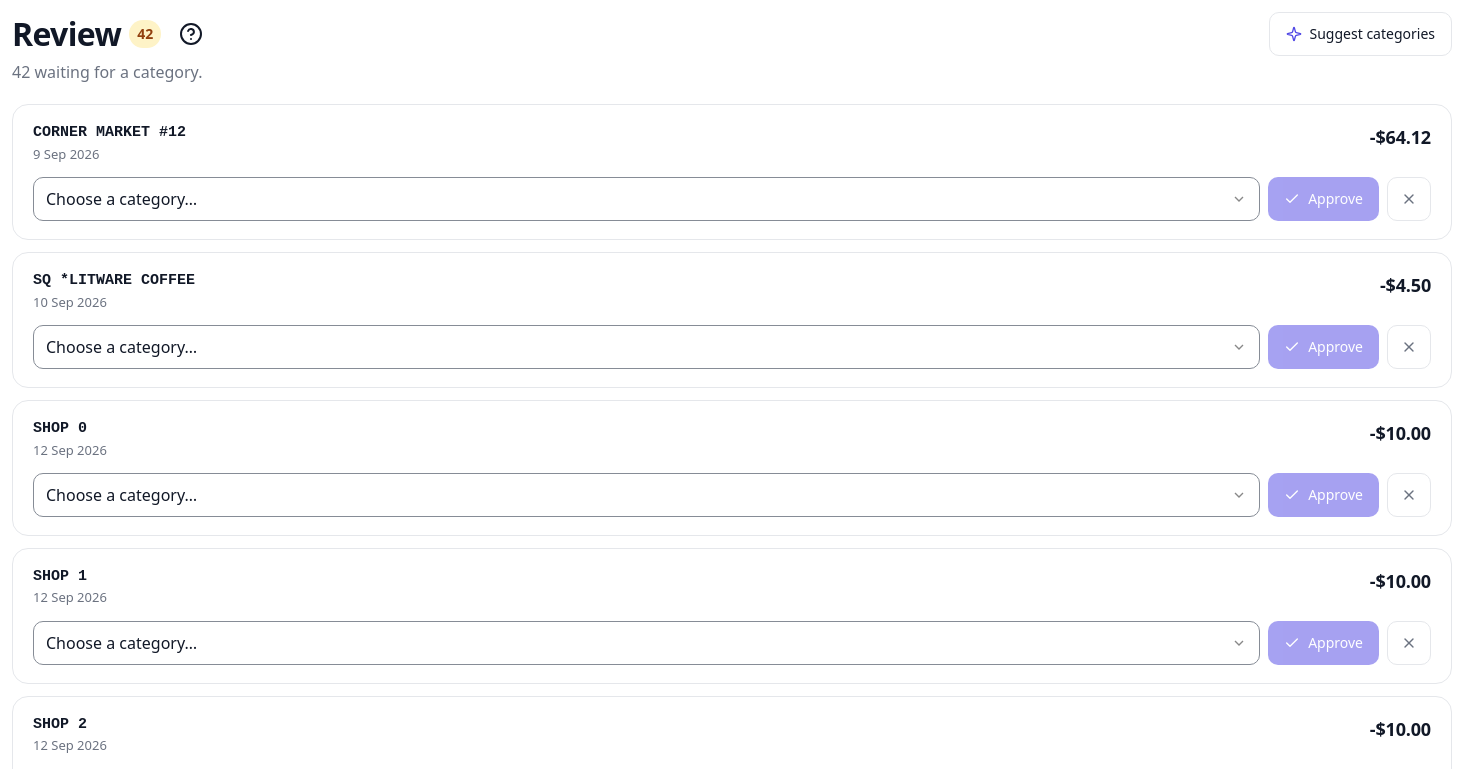
Test: Review says why nothing was suggested, in its own words › keeps what was suggested before a limit stopped it, and says both
Click the button "Suggest categories": (1360, 34) [1268,12,1452,56]
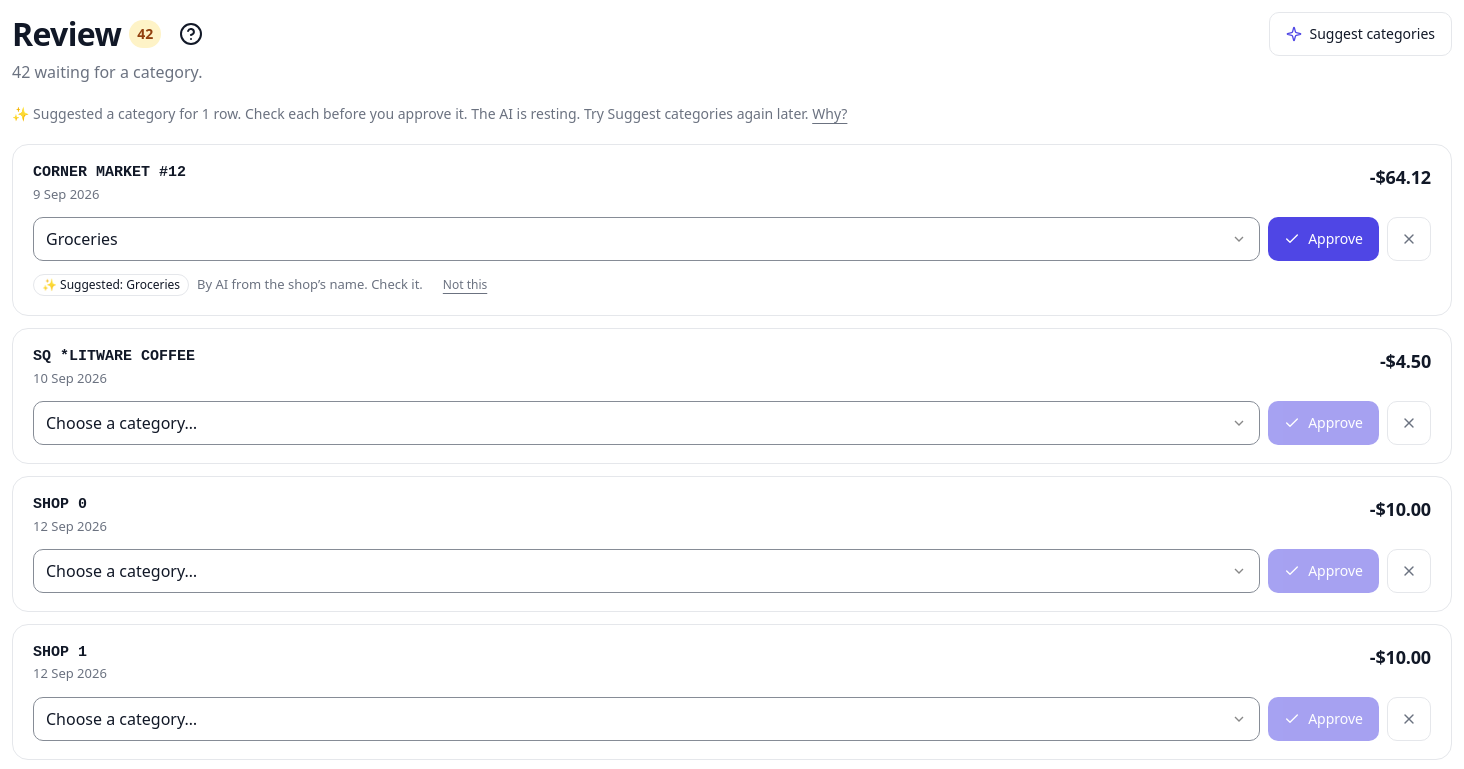
expect the text "Suggested a category for 1 row. Check each before you approve it. The AI is resting." is shown: met, box [12,104,847,123]
